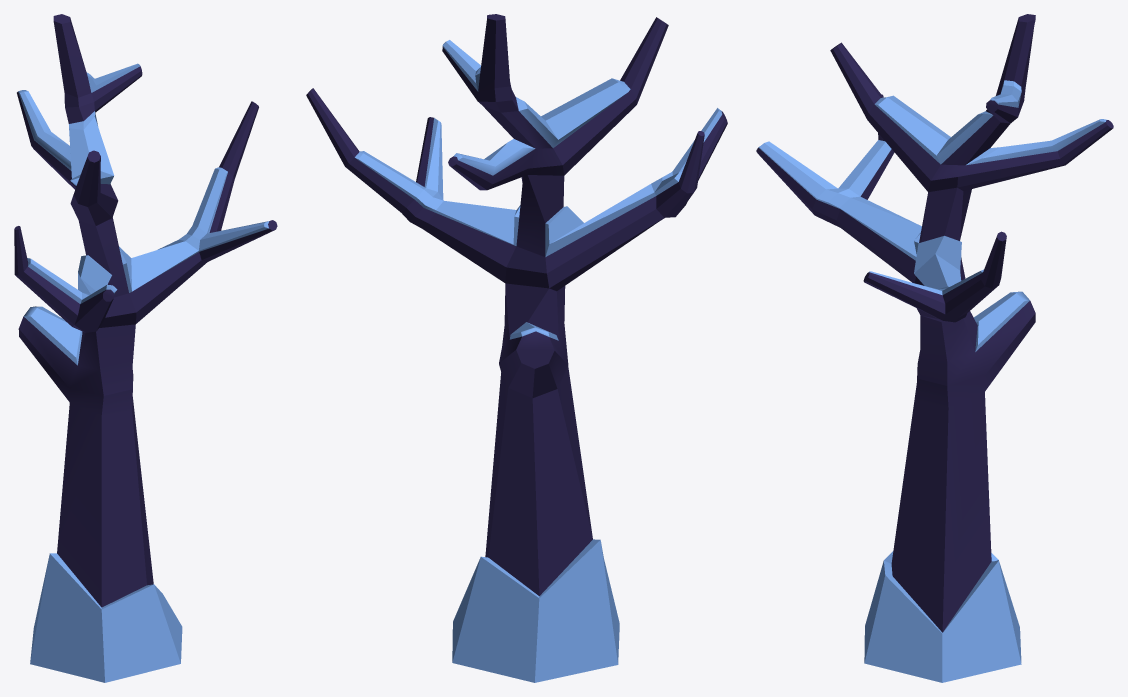
File: Leafless_Tree_1.fbx
3 renders of one model, left to right at view 1: azimuth 30°, elevation 25°; view 2: azimuth 150°, elevation 25°; view 3: azimuth 270°, elevation 25°, orthographic. The views are drawn at different scales.
Parts seen in each view (by area): view 1: Leafless_Tree_1; view 2: Leafless_Tree_1; view 3: Leafless_Tree_1.
Boxes of the visible parts, x1=… form: Leafless_Tree_1: x1=14, y1=14, x2=277, y2=682; Leafless_Tree_1: x1=306, y1=14, x2=727, y2=682; Leafless_Tree_1: x1=756, y1=14, x2=1113, y2=682.
Bounding box in the file's own units: 36.09 × 68.72 × 35.46.
